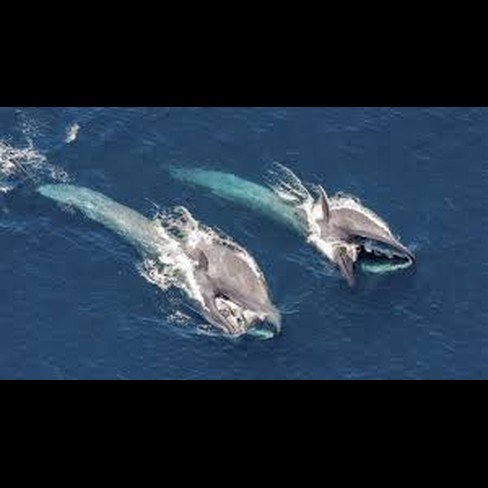bluewhale: (30, 174, 289, 350), (159, 140, 419, 292)
